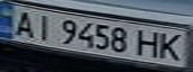4: (75, 20, 96, 50)
5: (90, 22, 112, 52)
8: (109, 25, 133, 55)
9: (54, 16, 78, 46)
A: (9, 8, 39, 38)
H: (133, 28, 163, 58)
I: (30, 11, 57, 42)
K: (154, 30, 190, 62)
